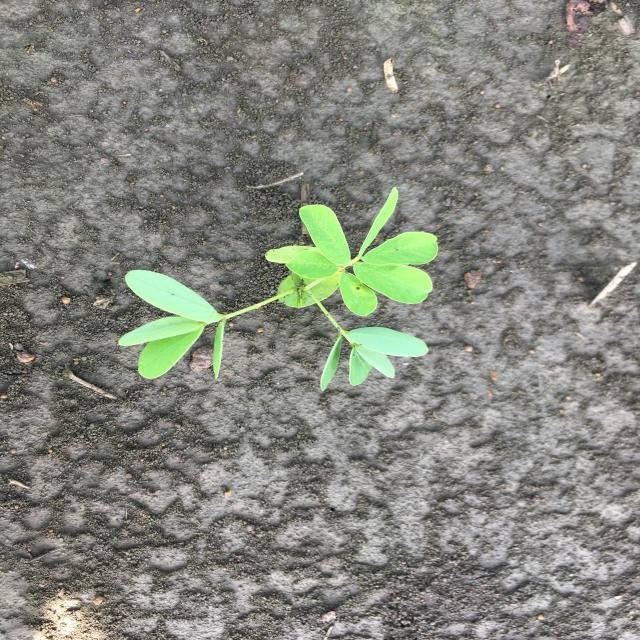Sicklepod: (114, 186, 443, 394)
